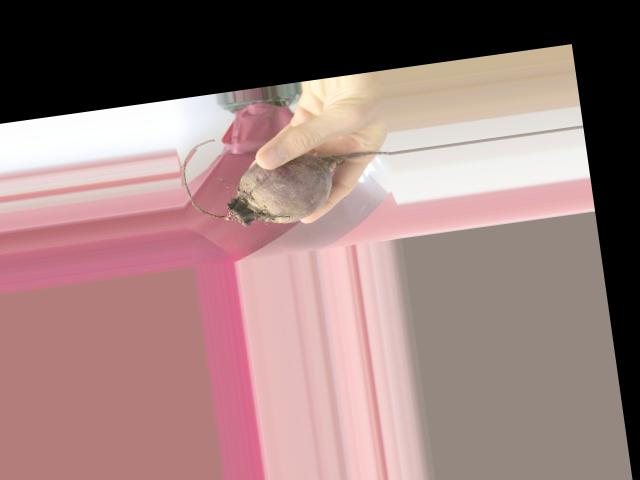beet: (177, 115, 397, 236)
